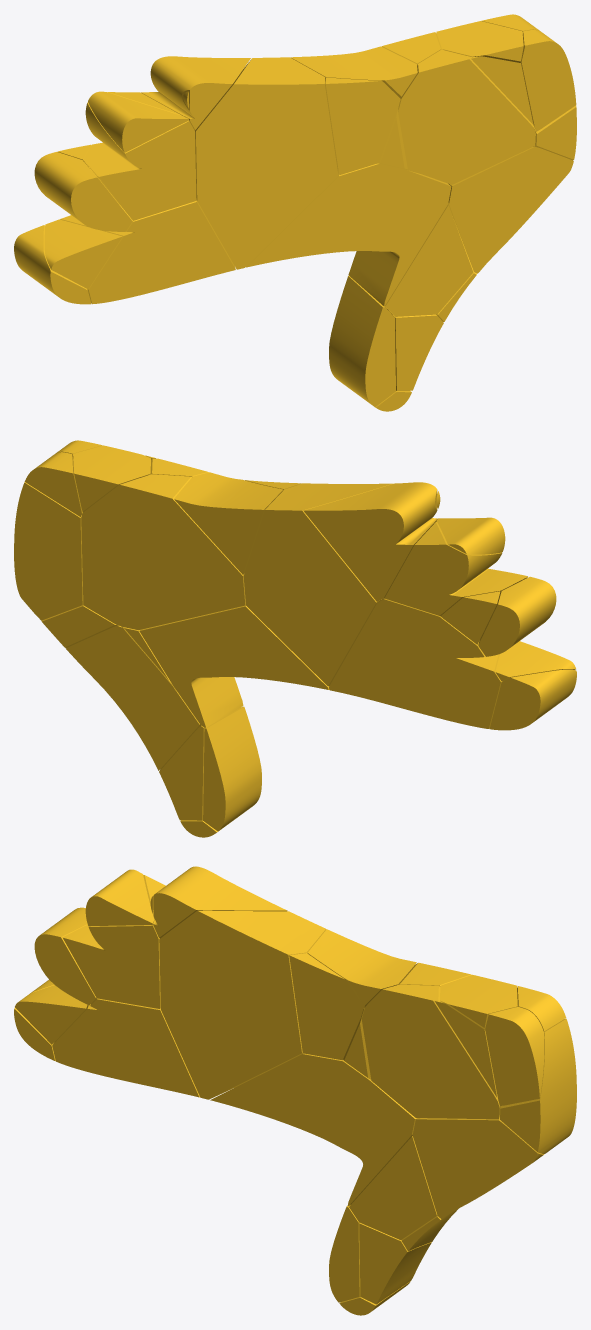
File: fractured-paper.glb
3 views of the same model, one above another, from view 1: azimuth 30°, elevation 25°; view 2: azimuth 150°, elevation 25°; view 3: azimuth 330°, elevation 25° (orthographic).
Visible parts, largest first — view 1: hand_5__cell, hand_5__cell.023, hand_5__cell.018, hand_5__cell.012, hand_5__cell.004, hand_5__cell.011, hand_5__cell.013, hand_5__cell.008, hand_5__cell.020, hand_5__cell.014, hand_5__cell.003, hand_5__cell.016 (+10 smaller); view 2: hand_5__cell.005, hand_5__cell, hand_5__cell.012, hand_5__cell.023, hand_5__cell.014, hand_5__cell.019, hand_5__cell.017, hand_5__cell.011, hand_5__cell.002, hand_5__cell.013, hand_5__cell.003, hand_5__cell.010 (+8 smaller); view 3: hand_5__cell, hand_5__cell.018, hand_5__cell.023, hand_5__cell.012, hand_5__cell.004, hand_5__cell.011, hand_5__cell.017, hand_5__cell.008, hand_5__cell.020, hand_5__cell.016, hand_5__cell.014, hand_5__cell.002 (+12 smaller).
Part boxes in pixels (<box>): hand_5__cell: <box>195,57,338,269</box>; hand_5__cell.023: <box>246,163,451,306</box>; hand_5__cell.018: <box>398,49,535,184</box>; hand_5__cell.012: <box>60,200,235,304</box>; hand_5__cell.004: <box>448,146,573,273</box>; hand_5__cell.011: <box>84,92,196,220</box>; hand_5__cell.013: <box>329,276,395,406</box>; hand_5__cell.008: <box>325,77,400,175</box>; hand_5__cell.020: <box>385,204,473,316</box>; hand_5__cell.014: <box>141,56,250,130</box>; hand_5__cell.003: <box>34,152,132,231</box>; hand_5__cell.016: <box>520,30,576,131</box>; hand_5__cell.005: <box>81,474,245,630</box>; hand_5__cell: <box>243,483,393,686</box>; hand_5__cell.012: <box>329,599,502,728</box>; hand_5__cell.023: <box>139,605,329,727</box>; hand_5__cell.014: <box>303,482,437,601</box>; hand_5__cell.019: <box>65,625,199,770</box>; hand_5__cell.017: <box>14,482,83,620</box>; hand_5__cell.011: <box>384,521,527,615</box>; hand_5__cell.002: <box>174,472,282,574</box>; hand_5__cell.013: <box>203,706,261,831</box>; hand_5__cell.003: <box>478,576,556,656</box>; hand_5__cell.010: <box>489,669,576,730</box>; hand_5__cell: <box>159,910,326,1099</box>; hand_5__cell.018: <box>361,984,500,1119</box>; hand_5__cell.023: <box>210,1053,419,1206</box>; hand_5__cell.012: <box>52,998,199,1097</box>; hand_5__cell.004: <box>412,1115,544,1218</box>; hand_5__cell.011: <box>62,875,165,1008</box>; hand_5__cell.017: <box>500,1018,576,1153</box>; hand_5__cell.008: <box>289,953,363,1060</box>; hand_5__cell.020: <box>349,1136,437,1239</box>; hand_5__cell.016: <box>485,1006,544,1105</box>; hand_5__cell.014: <box>153,866,287,938</box>; hand_5__cell.002: <box>307,929,416,1007</box>.
Bounding box in the file's own units: 3.34 × 2.27 × 0.4.
